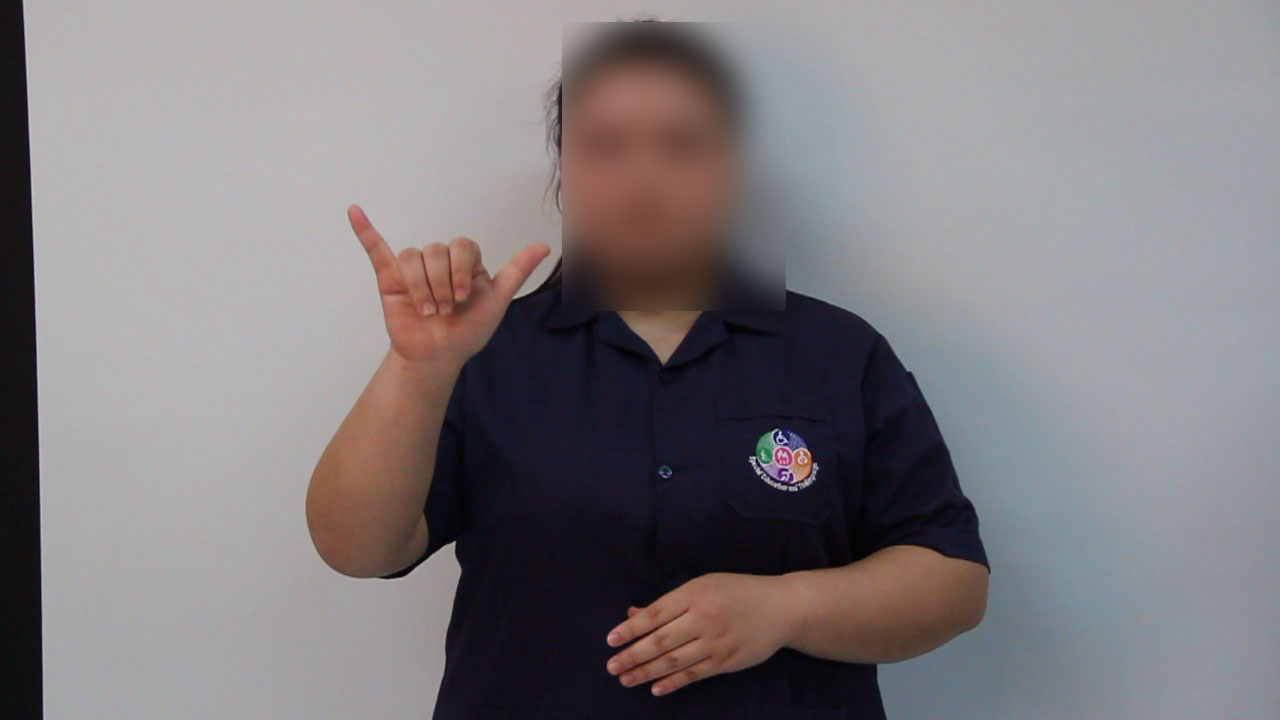yor: (324, 196, 560, 380)
